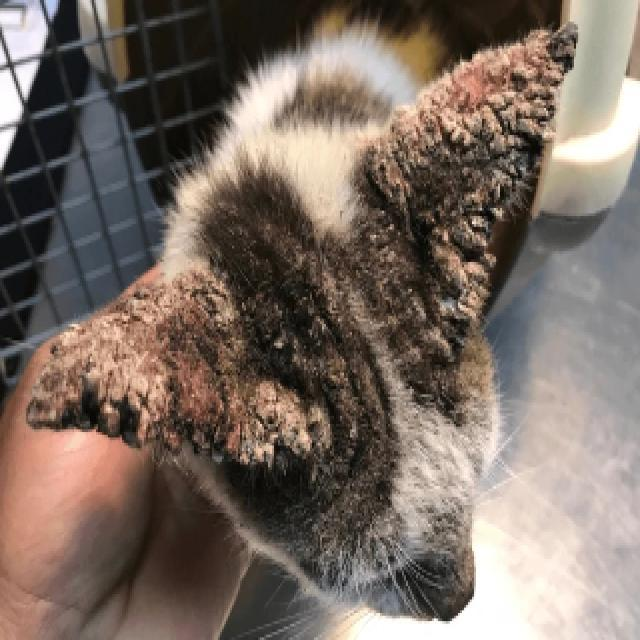Mange: (21, 274, 335, 478), (367, 24, 579, 315), (441, 522, 489, 618), (412, 318, 467, 372), (358, 239, 409, 286), (256, 315, 302, 363)
